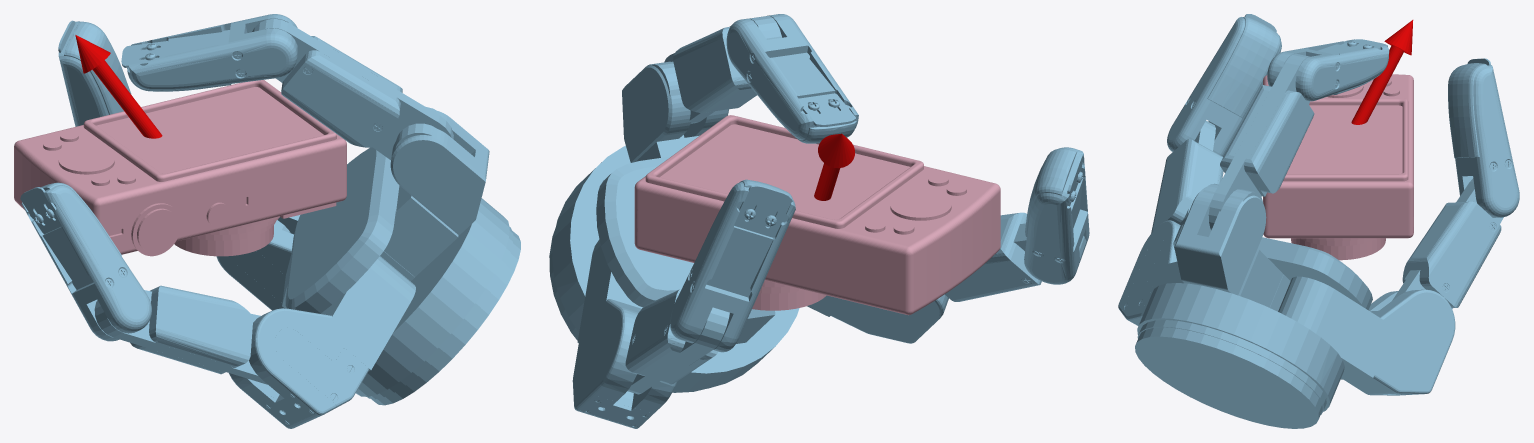
The picture shows the model from 3 angles, left to right: view 1: azimuth 30°, elevation 25°; view 2: azimuth 150°, elevation 25°; view 3: azimuth 270°, elevation 25°; orthographic projection. The views are drawn at different scales.
Parts seen in each view (by area): view 1: world, camera.stl; view 2: world, camera.stl; view 3: world, camera.stl.
Part boxes in pixels (<box>): world: <box>20,14,520,428</box>; camera.stl: <box>14,80,346,256</box>; world: <box>549,14,1089,428</box>; camera.stl: <box>634,115,1000,315</box>; world: <box>1118,14,1519,428</box>; camera.stl: <box>1263,74,1413,260</box>.
Size of the model in its own units: 0.2104 by 0.1584 by 0.1723.
